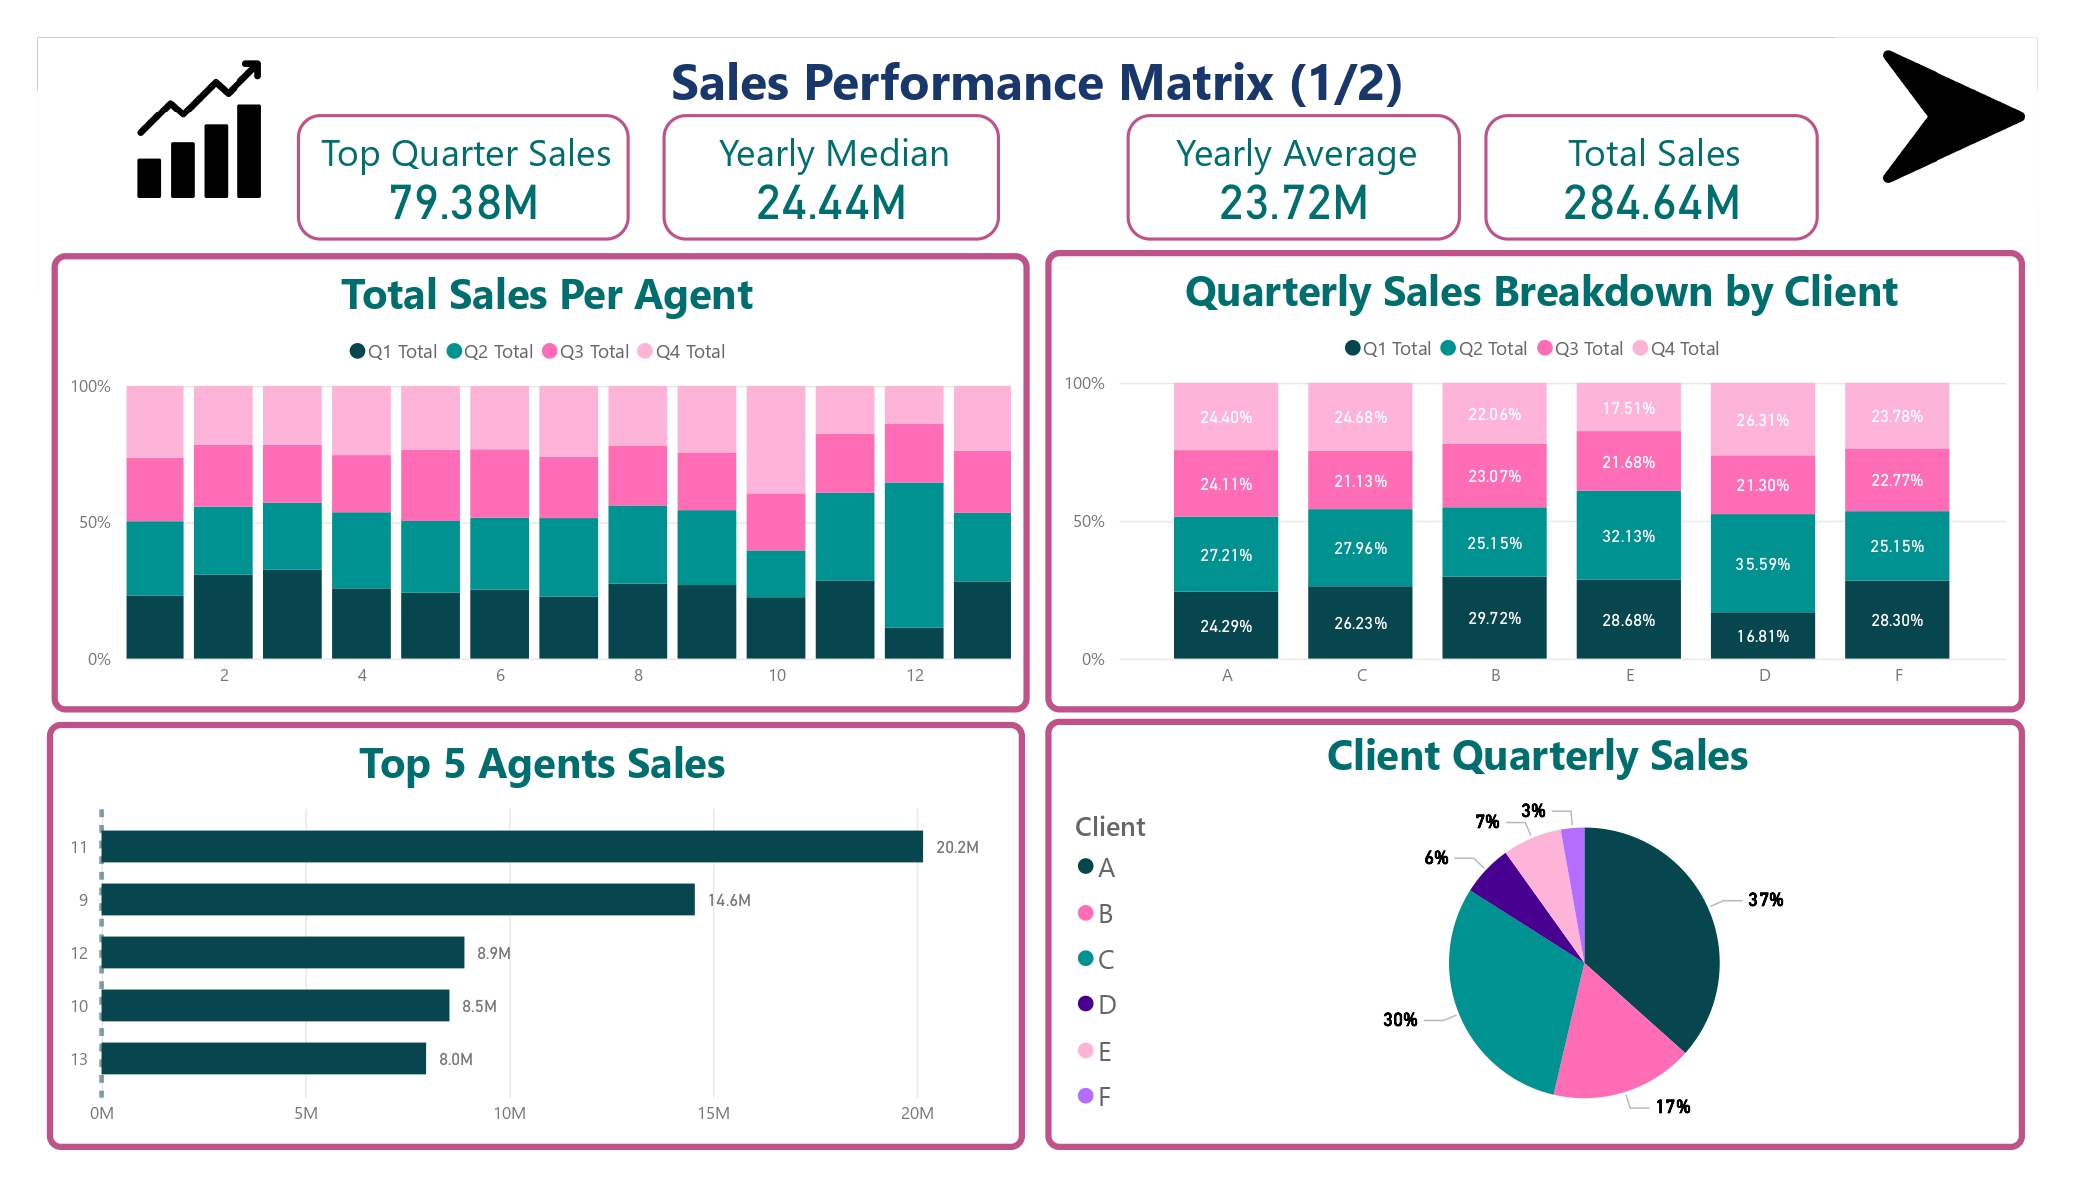

The page's visual inventory and layout, read from the dashboard file:
{"tool":"powerbi","page":{"name":"Page 1","canvas":[1280,720],"ordinal":0},"visuals":[{"type":"textbox","box":[0,0,1280,58.7],"z":0},{"type":"barChart","title":"Top 5 Agents Sales","fields":{"Y":["Sum(Table 1 (Sales Trend).Year Total)"],"Category":["Table 1 (Sales Trend).Agent"]},"box":[8.9,437.3,624.7,272.8],"z":1000},{"type":"pieChart","title":"Client Quarterly Sales ","fields":{"Y":["Sum(Table 1 (Sales Trend).Year Total)"],"Category":["Table 1 (Sales Trend).Client"]},"box":[644.6,436.4,627.8,275.6],"z":2000},{"type":"hundredPercentStackedColumnChart","title":"Total Sales Per Agent ","fields":{"Category":["Table 1 (Sales Trend).Agent"],"Y":["Sum(Table 1 (Sales Trend).Q1)","Sum(Table 1 (Sales Trend).Q2)","Sum(Table 1 (Sales Trend).Q3)","Sum(Table 1 (Sales Trend).Q4)"]},"box":[9.2,137.8,623.2,294],"z":3000},{"type":"actionButton","box":[1150,0,130,109],"z":4000},{"type":"image","box":[1172,0,108,101],"z":5000},{"type":"image","box":[49.3,8,108,101.3],"z":6000},{"type":"card","title":"Total Sales","fields":{"Values":["Sum(Table 1 (Sales Trend).Year Total)"]},"box":[926,49,214,81],"z":7000},{"type":"card","title":"Yearly Average","fields":{"Values":["Sum(Table 1 (Sales Trend).Year Average)"]},"box":[697,49,214,81],"z":8000},{"type":"card","title":"Yearly Median","fields":{"Values":["Sum(Table 1 (Sales Trend).Year Median)"]},"box":[400,49,216,81],"z":9000},{"type":"card","title":"Top Quarter Sales","fields":{"Values":["Sum(Table 1 (Sales Trend).Q2 Total Value)"]},"box":[166,49,213,81],"z":10000},{"type":"hundredPercentStackedColumnChart","title":"Quarterly Sales Breakdown by Client","fields":{"Category":["Table 1 (Sales Trend).Client"],"Y":["Sum(Table 1 (Sales Trend).Q1 Total Value)","Sum(Table 1 (Sales Trend).Q2 Total Value)","Sum(Table 1 (Sales Trend).Q3 Total Value)","Sum(Table 1 (Sales Trend).Q4 Total Value)"]},"box":[644.6,136.3,627.8,295.5],"z":11000},{"type":"textbox","box":[122.5,223.8,48.1,29.4],"z":12000},{"type":"textbox","box":[122.5,260,48.1,29.4],"z":13000},{"type":"textbox","box":[122.5,296.2,48.1,29.4],"z":14000},{"type":"textbox","box":[122.5,340.6,48.1,29.4],"z":15000},{"type":"textbox","box":[248.1,224.4,48.1,29.4],"z":16000},{"type":"textbox","box":[290,266.2,48.1,29.4],"z":17000},{"type":"textbox","box":[290,303.8,48.1,29.4],"z":18000},{"type":"textbox","box":[290,345.6,48.1,29.4],"z":19000},{"type":"textbox","box":[333.1,266.9,48.1,29.4],"z":20000},{"type":"textbox","box":[207.5,345.6,48.1,29.4],"z":21000},{"type":"textbox","box":[375.6,303.8,48.1,29.4],"z":22000},{"type":"textbox","box":[418.8,225,48.1,29.4],"z":23000},{"type":"textbox","box":[418.8,260,48.1,29.4],"z":24000},{"type":"textbox","box":[418.8,345.6,48.1,29.4],"z":25000},{"type":"textbox","box":[504.4,221.9,48.1,29.4],"z":26000},{"type":"textbox","box":[504.4,295.6,48.1,29.4],"z":27000},{"type":"textbox","box":[69.4,378.1,48.1,29.4],"z":28000},{"type":"textbox","box":[157.5,378.1,48.1,29.4],"z":28001},{"type":"textbox","box":[241.9,378.1,48.1,29.4],"z":28002},{"type":"textbox","box":[323.8,377.5,48.1,29.4],"z":28003},{"type":"textbox","box":[406.9,377.5,48.1,29.4],"z":28004},{"type":"textbox","box":[492.5,378.1,48.1,29.4],"z":28005},{"type":"textbox","box":[578.8,378.8,48.1,29.4],"z":28006}]}

Visuals, with their boxes in screenshot pixels (x1, y1, x2, y2):
textbox: <region>38, 38, 2038, 129</region>
"Top 5 Agents Sales" barChart: <region>51, 721, 1028, 1147</region>
"Client Quarterly Sales " pieChart: <region>1045, 719, 2026, 1150</region>
"Total Sales Per Agent " hundredPercentStackedColumnChart: <region>52, 253, 1026, 712</region>
actionButton: <region>1834, 38, 2038, 208</region>
image: <region>1869, 38, 2038, 195</region>
image: <region>115, 50, 283, 208</region>
"Total Sales" card: <region>1484, 114, 1819, 241</region>
"Yearly Average" card: <region>1127, 114, 1461, 241</region>
"Yearly Median" card: <region>662, 114, 1000, 241</region>
"Top Quarter Sales" card: <region>297, 114, 630, 241</region>
"Quarterly Sales Breakdown by Client" hundredPercentStackedColumnChart: <region>1045, 250, 2026, 712</region>
textbox: <region>229, 387, 304, 433</region>
textbox: <region>229, 444, 304, 490</region>
textbox: <region>229, 500, 304, 546</region>
textbox: <region>229, 570, 304, 616</region>
textbox: <region>425, 388, 500, 434</region>
textbox: <region>491, 453, 566, 499</region>
textbox: <region>491, 512, 566, 558</region>
textbox: <region>491, 578, 566, 623</region>
textbox: <region>558, 455, 633, 500</region>
textbox: <region>362, 578, 437, 623</region>
textbox: <region>624, 512, 700, 558</region>
textbox: <region>692, 389, 767, 435</region>
textbox: <region>692, 444, 767, 490</region>
textbox: <region>692, 578, 767, 623</region>
textbox: <region>826, 384, 901, 430</region>
textbox: <region>826, 499, 901, 545</region>
textbox: <region>146, 628, 221, 674</region>
textbox: <region>284, 628, 359, 674</region>
textbox: <region>415, 628, 491, 674</region>
textbox: <region>543, 627, 619, 673</region>
textbox: <region>673, 627, 748, 673</region>
textbox: <region>807, 628, 882, 674</region>
textbox: <region>942, 629, 1017, 675</region>
